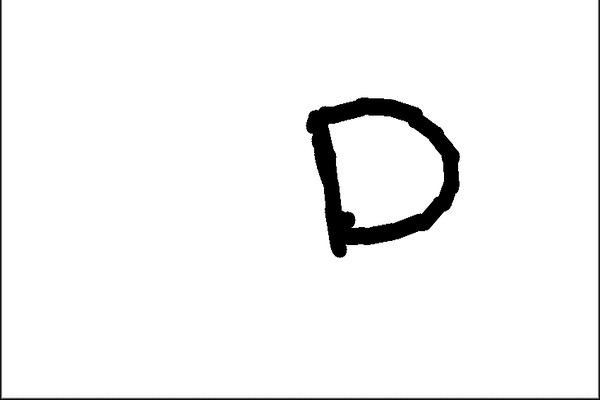D: (296, 88, 465, 264)
